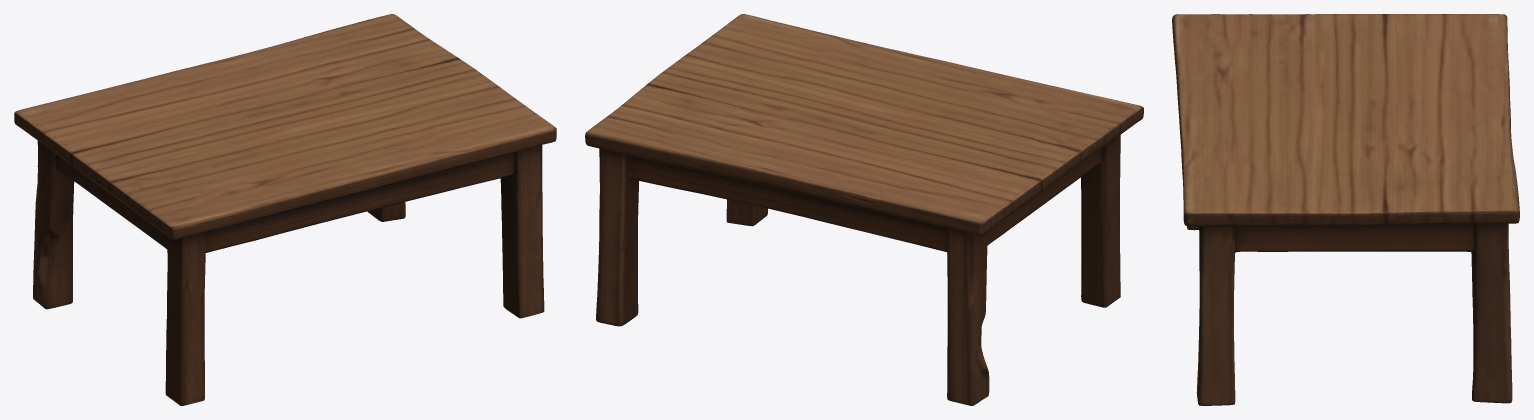
The model's file is BanGho.glb.
3 views of the same model, side by side, from view 1: azimuth 30°, elevation 25°; view 2: azimuth 150°, elevation 25°; view 3: azimuth 270°, elevation 25° (orthographic). The views are drawn at different scales.
Parts seen in each view (by area): view 1: world; view 2: world; view 3: world.
Boxes of the visible parts, <box> form: world: <box>14,14,556,405</box>; world: <box>585,14,1143,405</box>; world: <box>1172,14,1519,405</box>.
Bounding box in the file's own units: 0.9961 × 0.4571 × 0.7315.
1 material, 1 textured.
